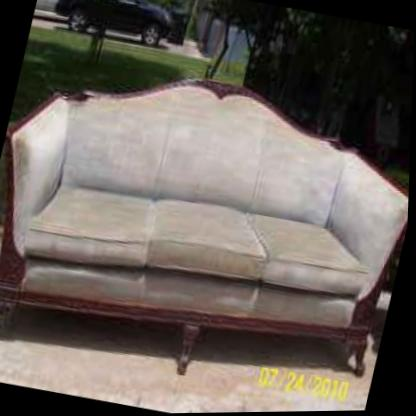Sofa: (0, 38, 415, 415)
